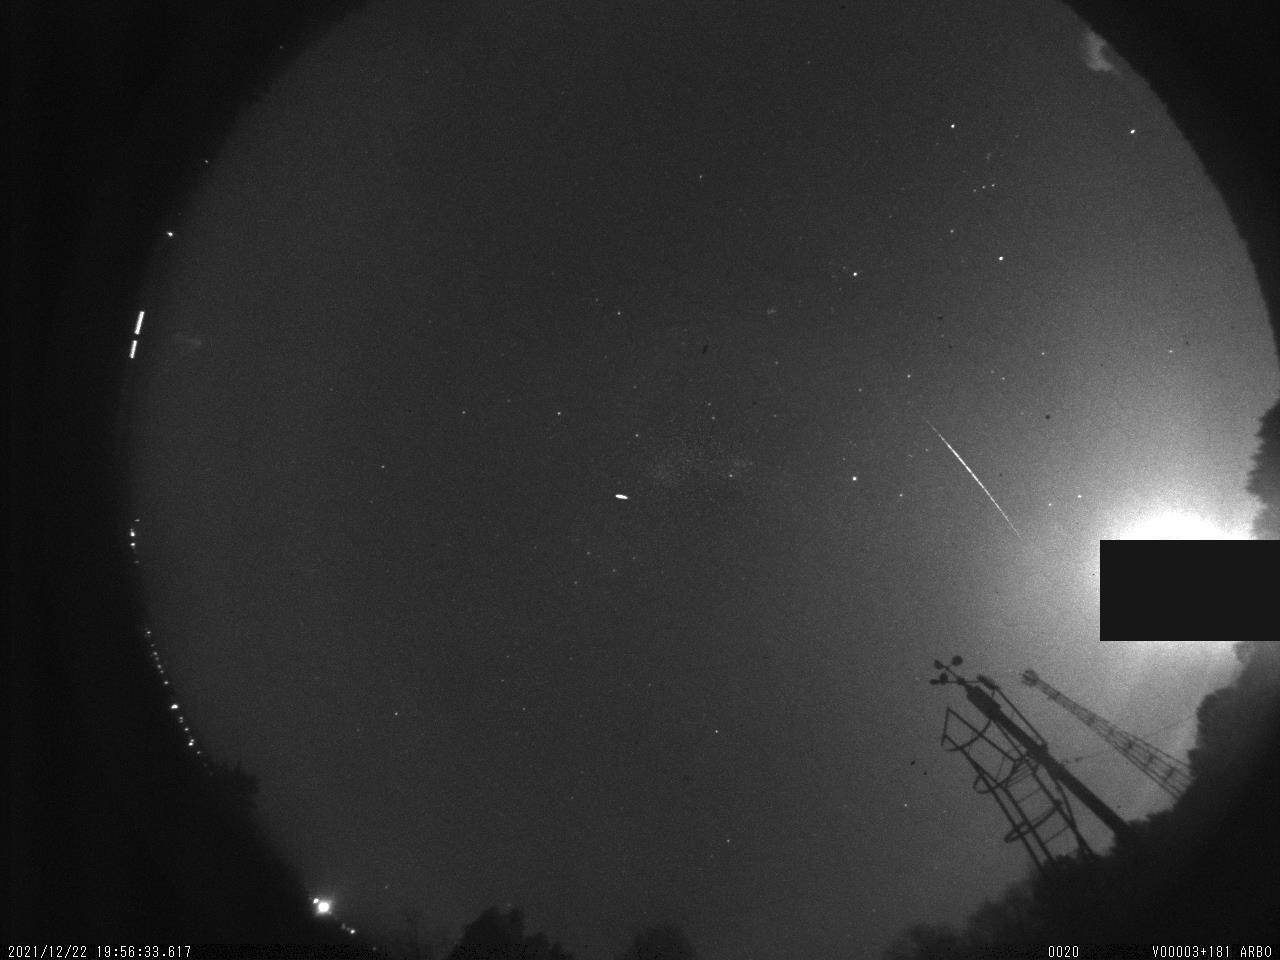meteor: (891, 389, 1048, 561)
